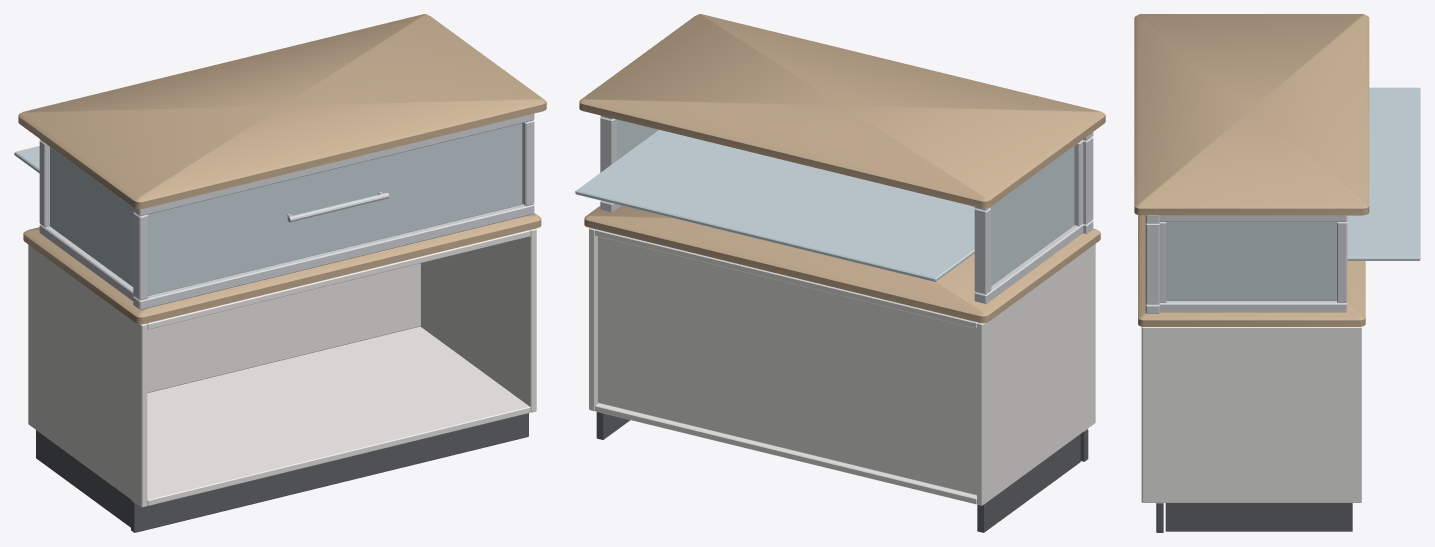
Rendered from SM_Retail_25339_GlazedDisplayCounter.fbx.
3 renders of one model, left to right at view 1: azimuth 30°, elevation 25°; view 2: azimuth 150°, elevation 25°; view 3: azimuth 270°, elevation 25°, orthographic. The views are drawn at different scales.
Visible parts, largest first — view 1: SM_Retail_25339_GlazedDisplayCounter; view 2: SM_Retail_25339_GlazedDisplayCounter; view 3: SM_Retail_25339_GlazedDisplayCounter.
Part boxes in pixels (left/top/right/bottom): SM_Retail_25339_GlazedDisplayCounter: left=14, top=14, right=546, bottom=532; SM_Retail_25339_GlazedDisplayCounter: left=575, top=14, right=1105, bottom=532; SM_Retail_25339_GlazedDisplayCounter: left=1134, top=14, right=1420, bottom=532.
Bounding box in the file's own units: 125 × 78 × 99.6.
